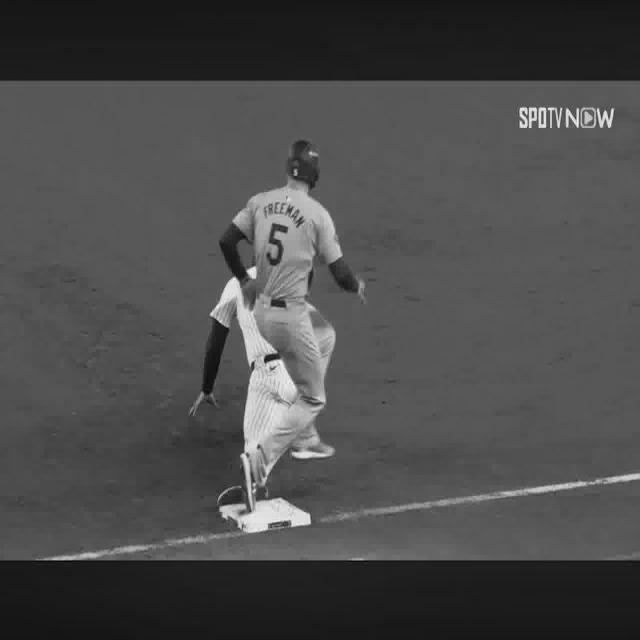base: (219, 498, 311, 533)
shoe: (240, 453, 258, 512), (291, 440, 336, 460), (216, 485, 246, 510), (255, 487, 269, 500)
